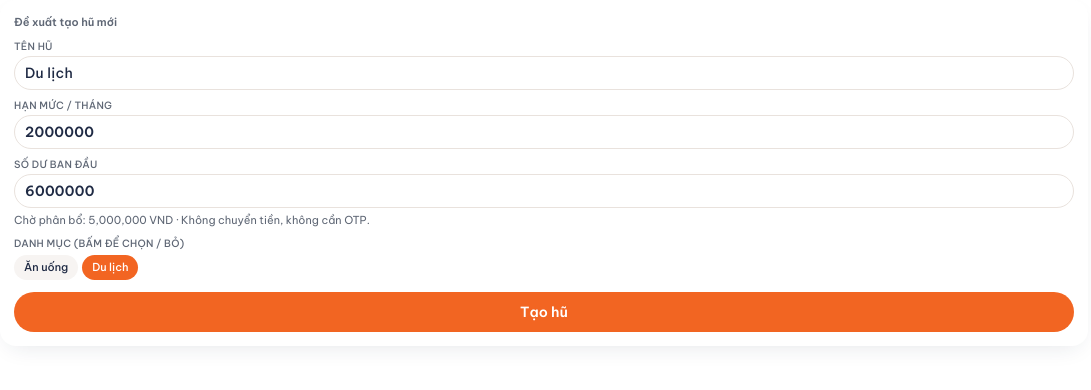
it: AgentJarFormCard — create with an opening balance › a balance above Chờ phân bổ is rejected before any write
Click the button "Tạo hũ".
click(544, 312)  # box [14,292,1074,332]
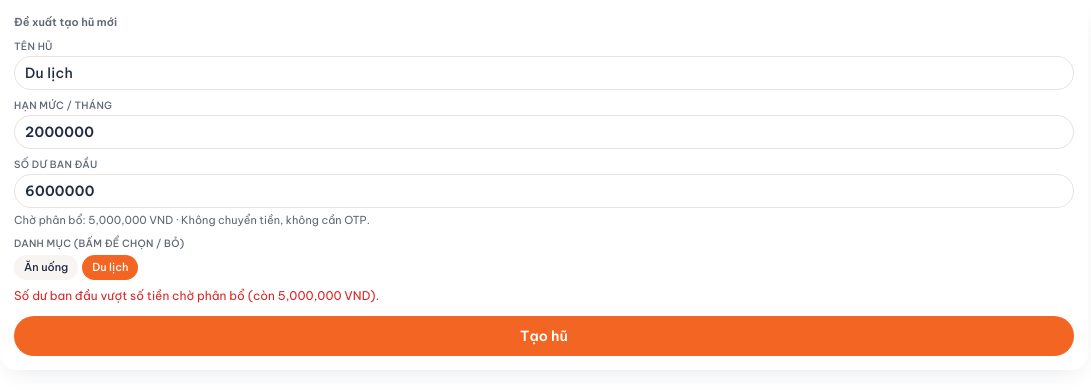
Expected: the message shows "Số dư ban đầu vượt số tiền chờ phân bổ (còn 5,000,000", [14,288,379,302]
